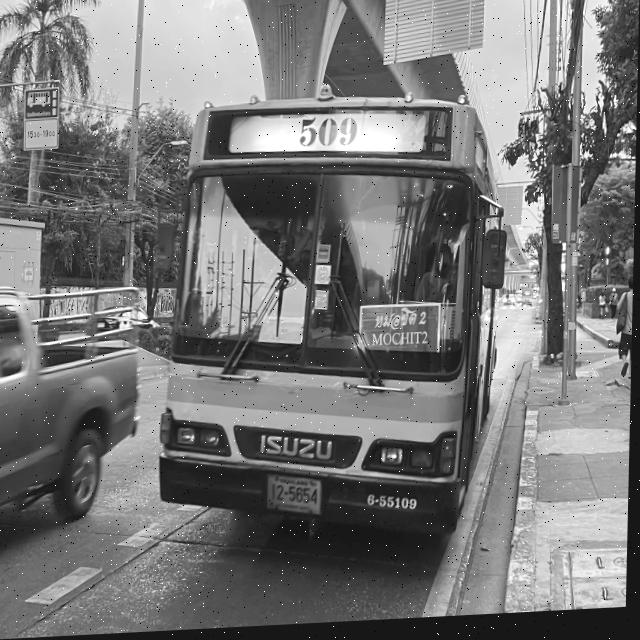BMTA-bus: (158, 91, 510, 552)
Bus-Line-Number: (295, 112, 361, 158)
Destination-Sign-Normal: (362, 308, 439, 361)
